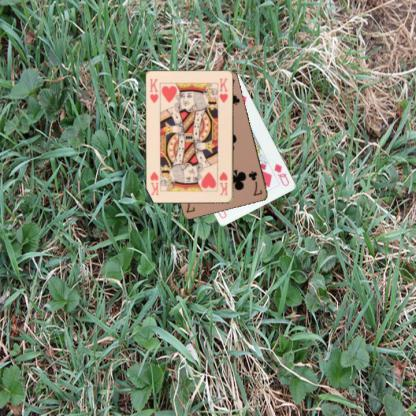7c: (246, 168, 264, 197)
Kh: (147, 76, 160, 105), (218, 170, 230, 196)
Qd: (272, 161, 290, 188)
